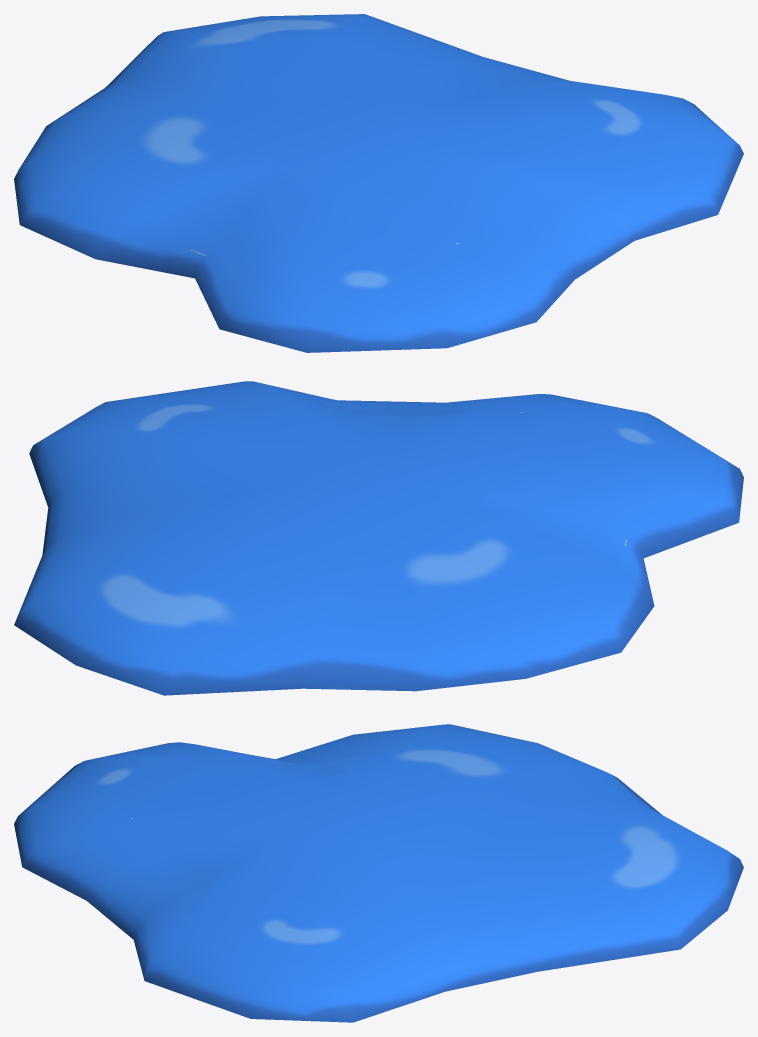
File: water.fbx
The picture shows the model from 3 angles, top to bottom: view 1: azimuth 30°, elevation 25°; view 2: azimuth 150°, elevation 25°; view 3: azimuth 270°, elevation 25°; orthographic projection. The views are drawn at different scales.
Parts seen in each view (by area): view 1: pSphere1; view 2: pSphere1; view 3: pSphere1.
Part boxes in pixels (x1,y1,x2,y2): pSphere1: (14,14,743,352); pSphere1: (14,381,743,695); pSphere1: (14,724,743,1022).
Size of the model in its own units: 2068 by 178 by 2212.
Materials: 1 (1 with a texture image).
